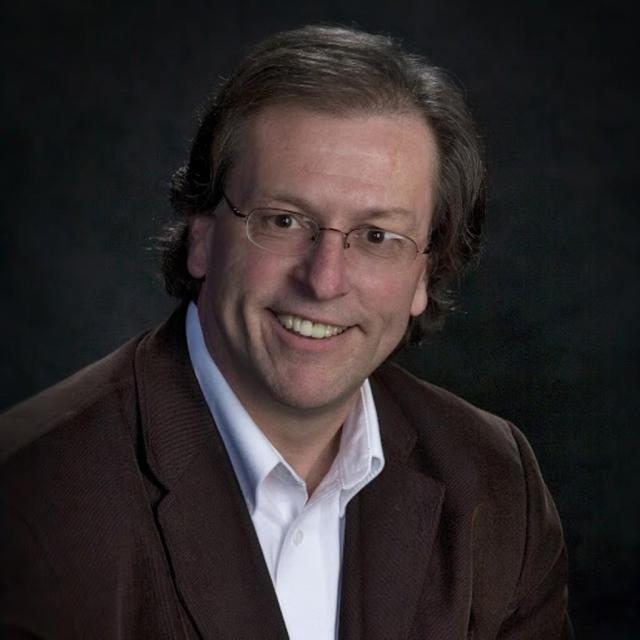Nonhelmet: (148, 21, 490, 411)
